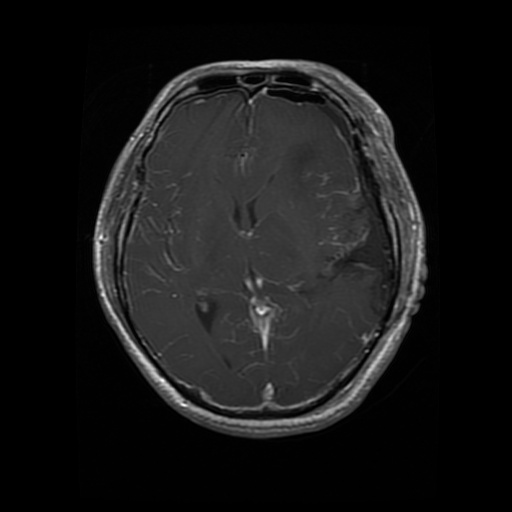glioma: (317, 196, 392, 309)
